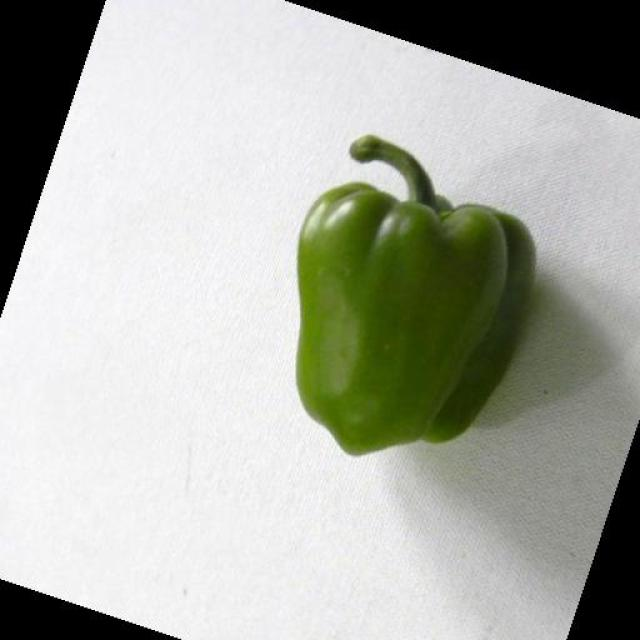Fresh_Capsicum: (251, 137, 538, 460)
